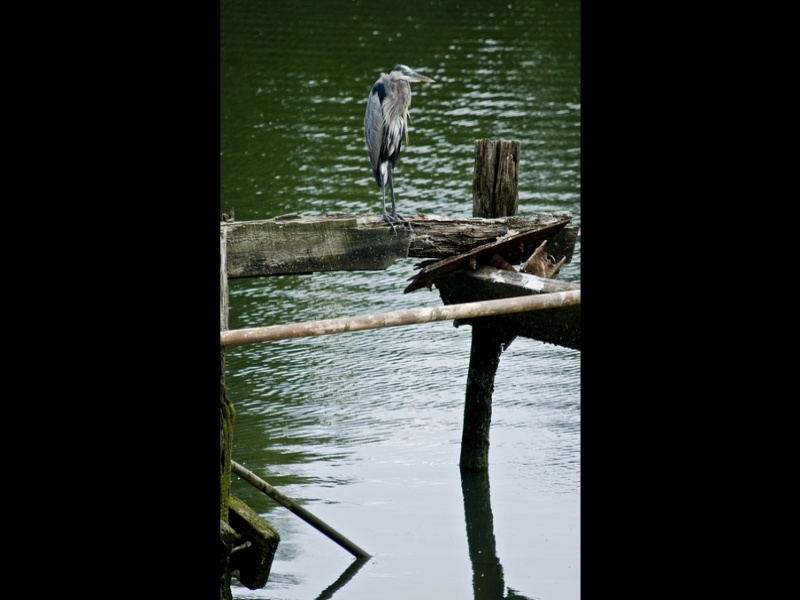heron: (364, 63, 439, 235)
